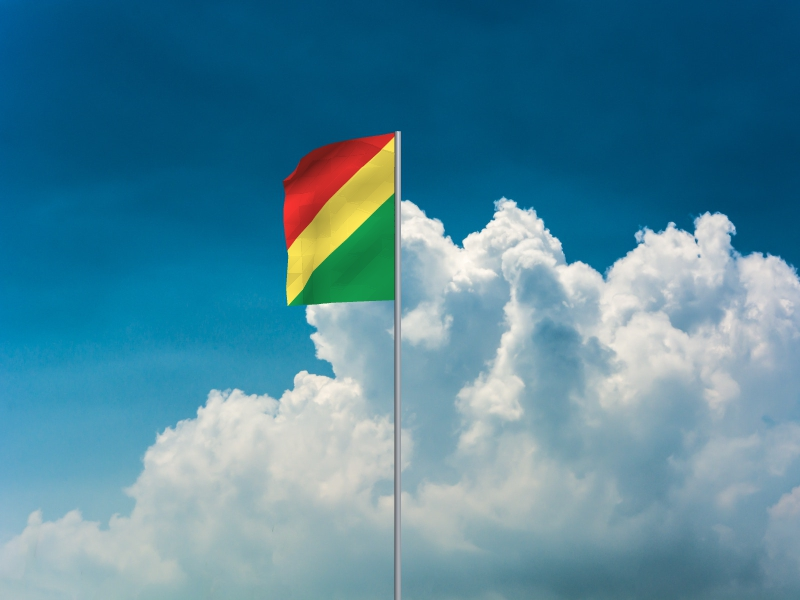cg: (283, 133, 395, 308)
